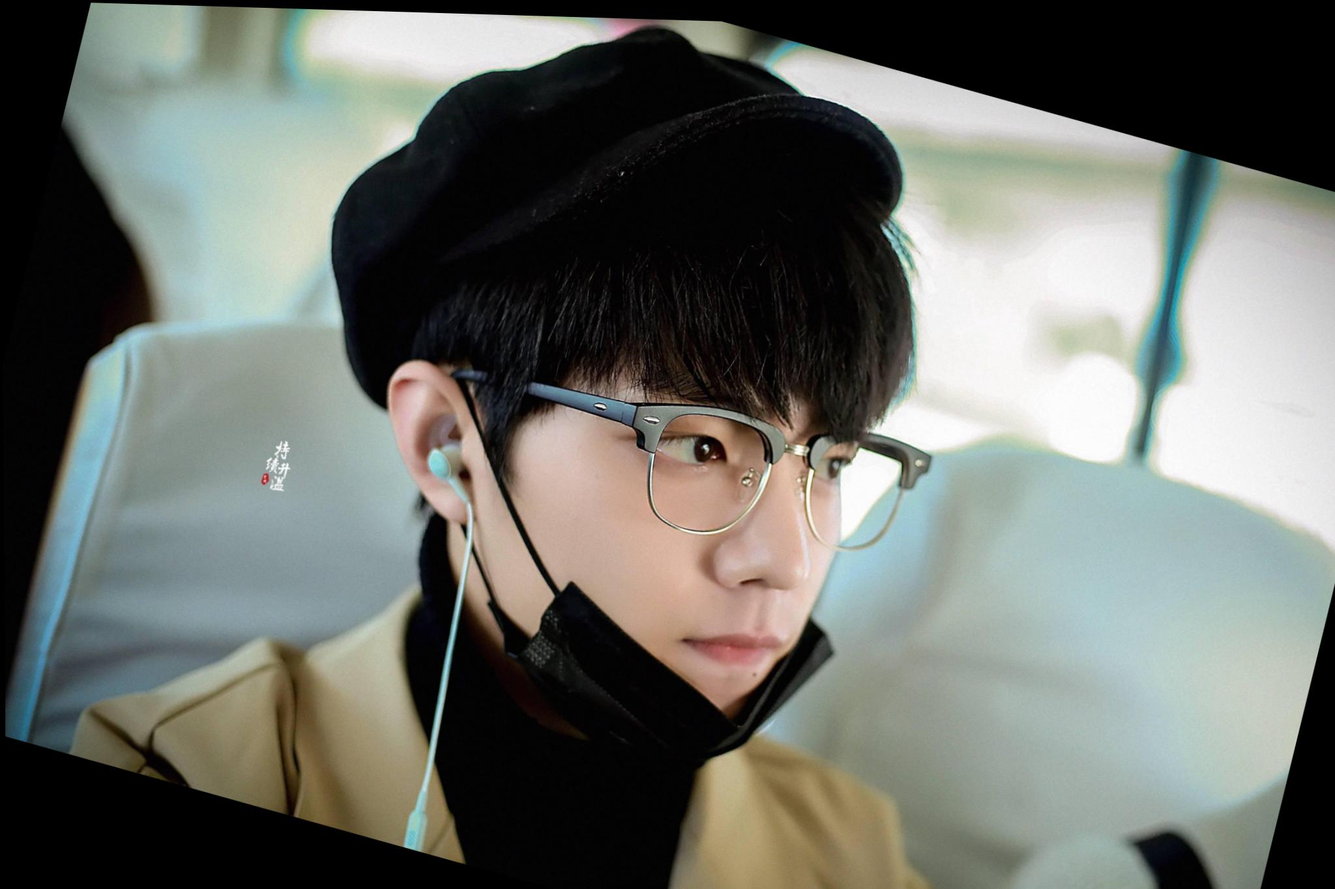WRONG: (456, 273, 892, 769)
